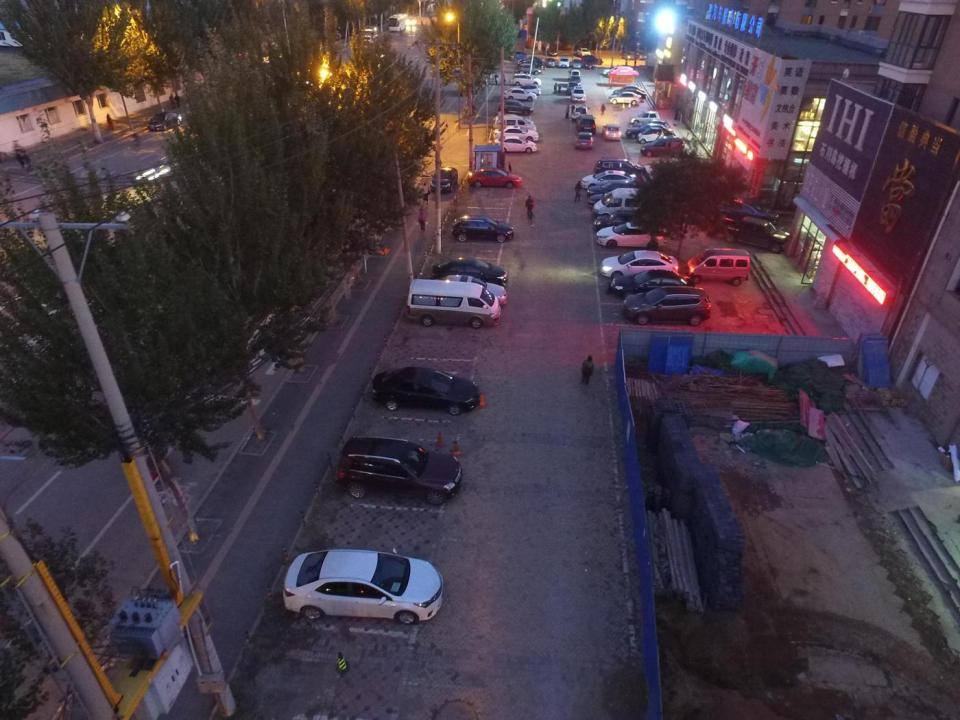bus: (388, 12, 408, 34)
car: (281, 544, 442, 626), (332, 435, 461, 504), (371, 365, 480, 415), (622, 289, 712, 323), (436, 273, 515, 303), (428, 258, 510, 285), (607, 267, 690, 293), (597, 222, 668, 251), (720, 194, 782, 226), (603, 252, 679, 277), (450, 214, 515, 243), (592, 209, 661, 231), (466, 167, 522, 189), (142, 108, 186, 133), (583, 170, 638, 190), (591, 158, 647, 176), (426, 164, 458, 195), (587, 181, 642, 199), (493, 136, 538, 156), (588, 188, 640, 204), (494, 98, 537, 116), (493, 127, 541, 143), (625, 124, 673, 140), (602, 62, 634, 81), (501, 86, 537, 102), (635, 120, 671, 134), (510, 72, 540, 88), (574, 114, 598, 134), (609, 91, 643, 105), (638, 126, 672, 140), (612, 84, 646, 97), (603, 119, 624, 140), (575, 128, 592, 153), (616, 88, 646, 101), (630, 112, 661, 124), (515, 83, 543, 96), (569, 84, 588, 103), (518, 63, 542, 76), (506, 48, 528, 62), (517, 54, 542, 66), (573, 45, 592, 59), (572, 102, 589, 117), (520, 59, 544, 68), (620, 49, 636, 62), (566, 80, 578, 95), (557, 56, 570, 69), (634, 49, 647, 61), (568, 68, 582, 79), (407, 14, 419, 26), (570, 75, 583, 86), (571, 56, 581, 69), (546, 56, 555, 69), (547, 44, 556, 57)
truck: (715, 216, 794, 254)
van: (404, 276, 500, 330), (682, 246, 752, 286), (594, 189, 653, 216), (640, 137, 683, 159), (492, 114, 537, 131), (359, 25, 381, 46), (583, 55, 597, 72)
